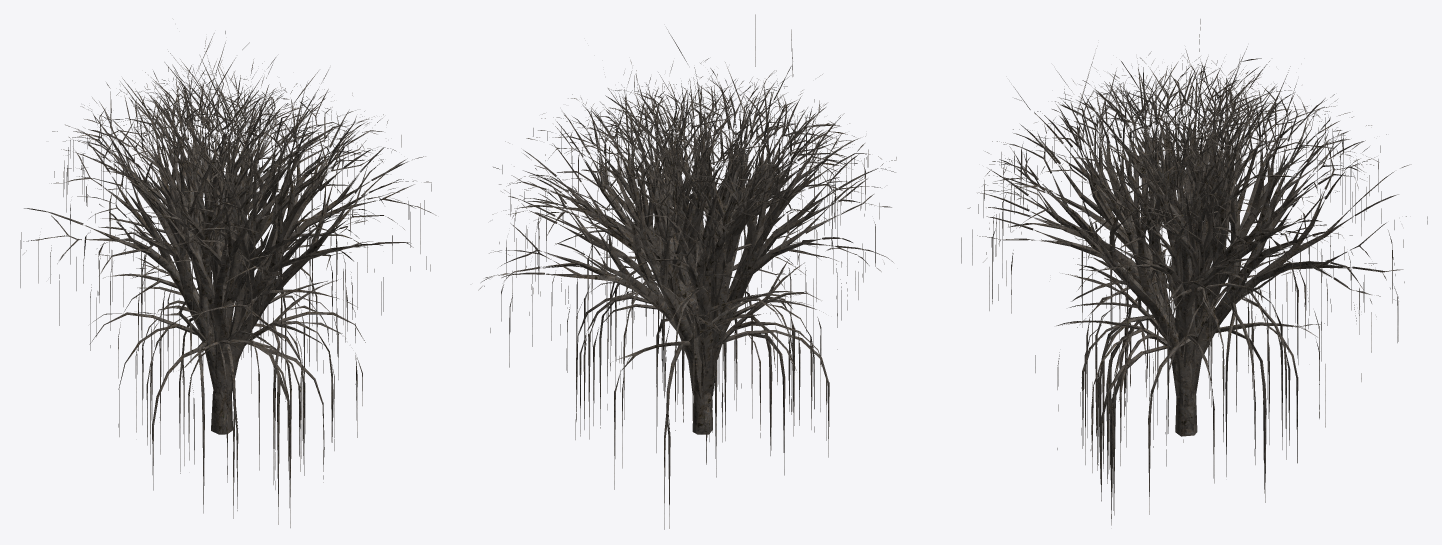
File: tree_fantasy_dead.glb
3 renders of one model, left to right at view 1: azimuth 30°, elevation 25°; view 2: azimuth 150°, elevation 25°; view 3: azimuth 270°, elevation 25°, orthographic. The views are drawn at different scales.
Visible parts, largest first — view 1: Object_4; view 2: Object_4; view 3: Object_4.
Boxes of the visible parts, <box> form: Object_4: <box>20,31,436,527</box>; Object_4: <box>478,14,896,529</box>; Object_4: <box>961,19,1427,525</box>.
Size of the model in its own units: 9.95 by 11.26 by 10.41.
1 material, 1 textured.
